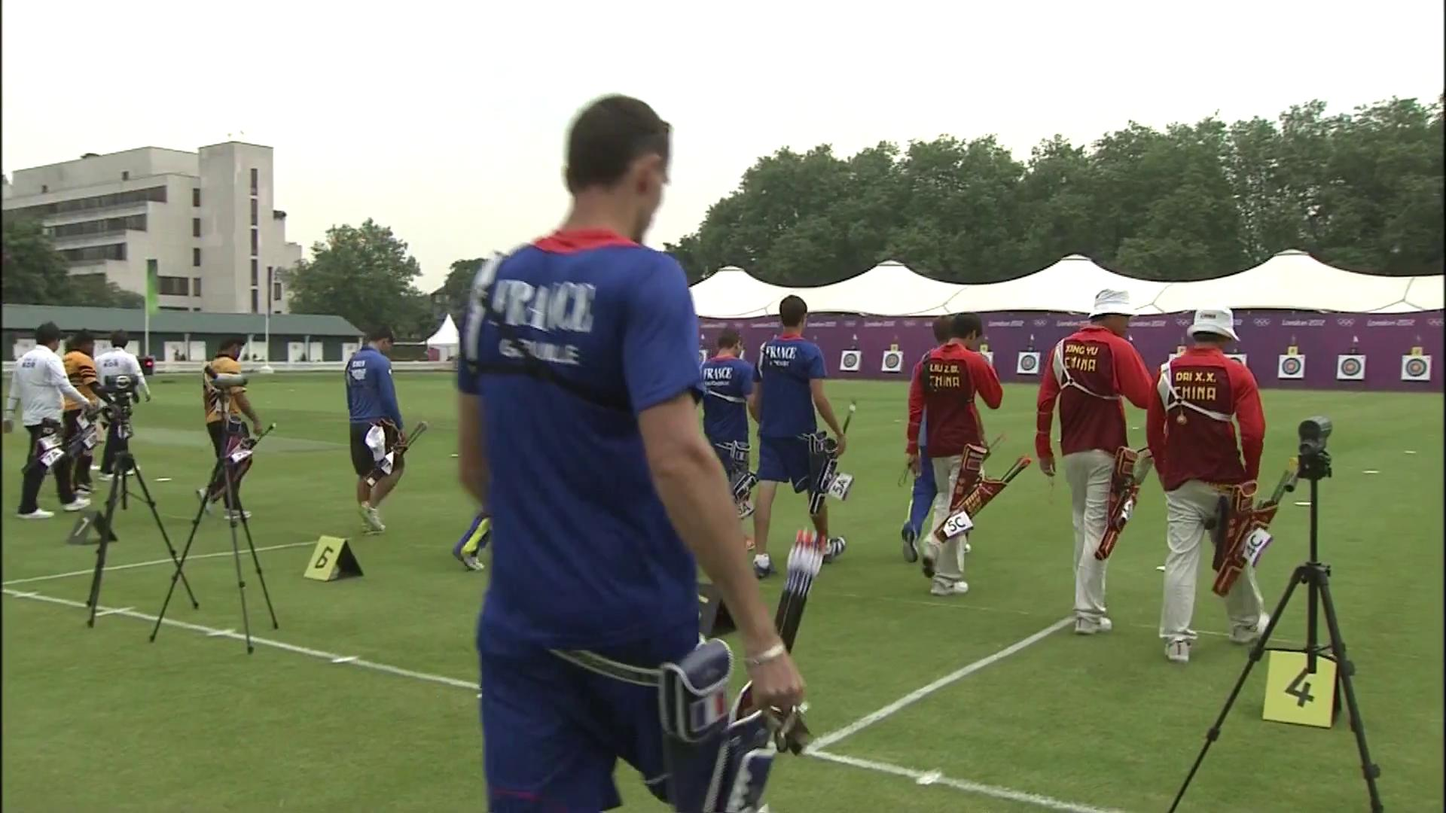victim: (441, 94, 813, 810), (1143, 301, 1274, 668), (1031, 283, 1164, 640), (743, 289, 860, 586), (900, 311, 1011, 603), (5, 318, 93, 530), (338, 324, 415, 539), (900, 314, 962, 569), (185, 335, 261, 525), (693, 329, 762, 533), (94, 330, 154, 481), (56, 335, 106, 502)
